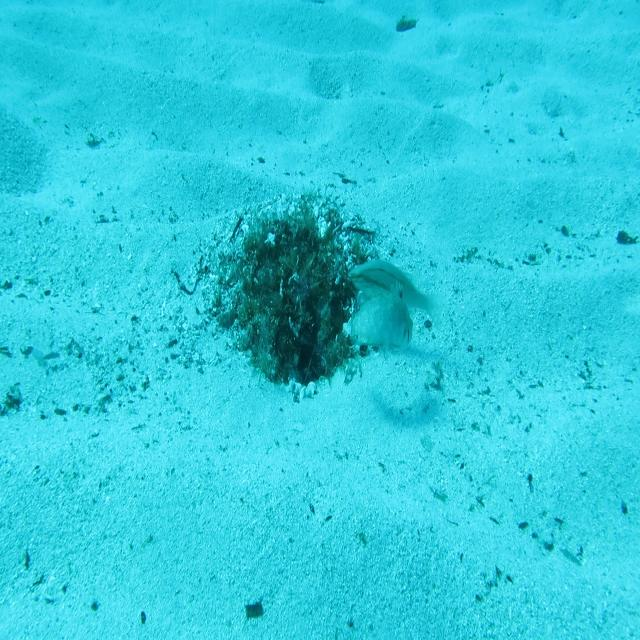DAN_CIRC: (345, 278, 413, 354)
core_nest: (266, 230, 318, 288)
female: (347, 255, 445, 331)
nest: (190, 166, 412, 420)
vegetation: (392, 12, 421, 32), (616, 229, 638, 251), (245, 600, 264, 620)
